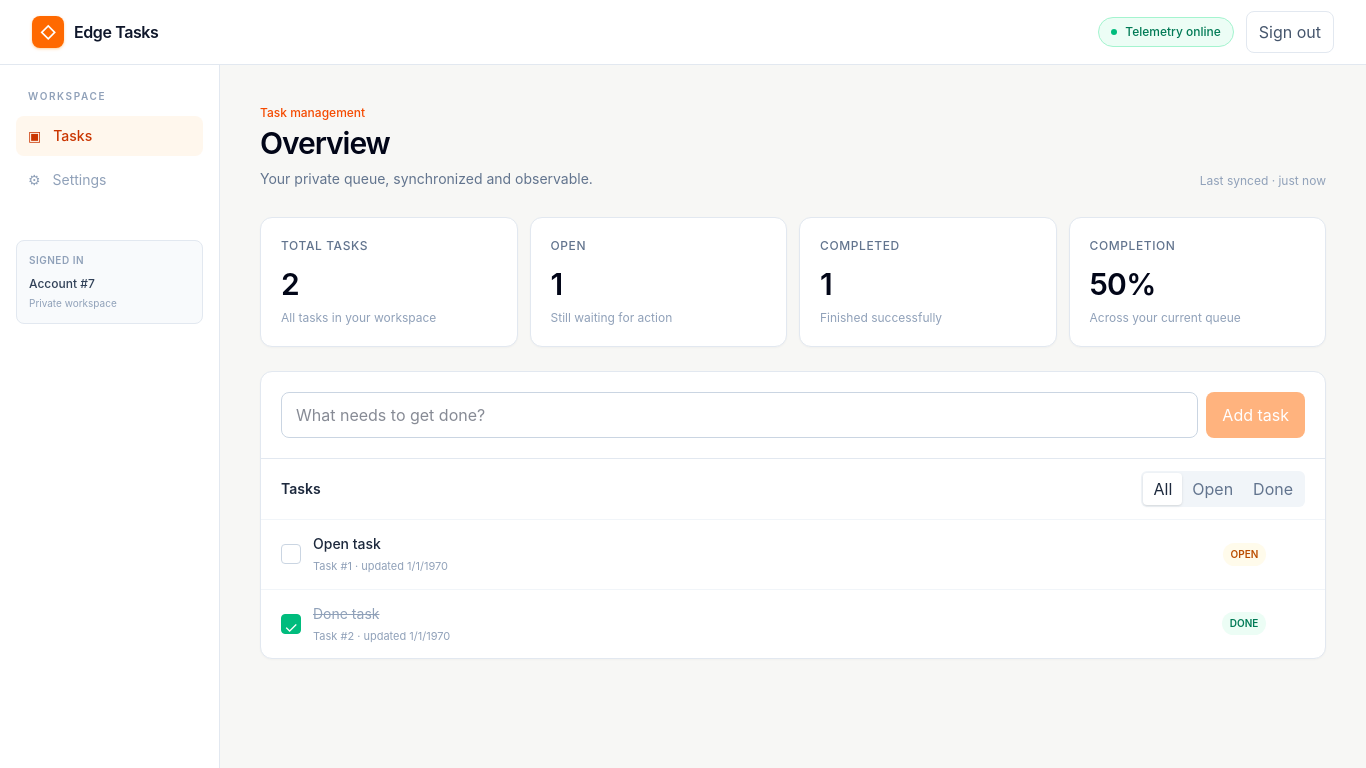
Scenario: App › filters completed tasks
The image size is (1366, 768).
Expected: the text "Open task" is shown, [313,535,381,552]
Step 1. Click the button "done" → (1273, 489), box [1243,473,1303,505]
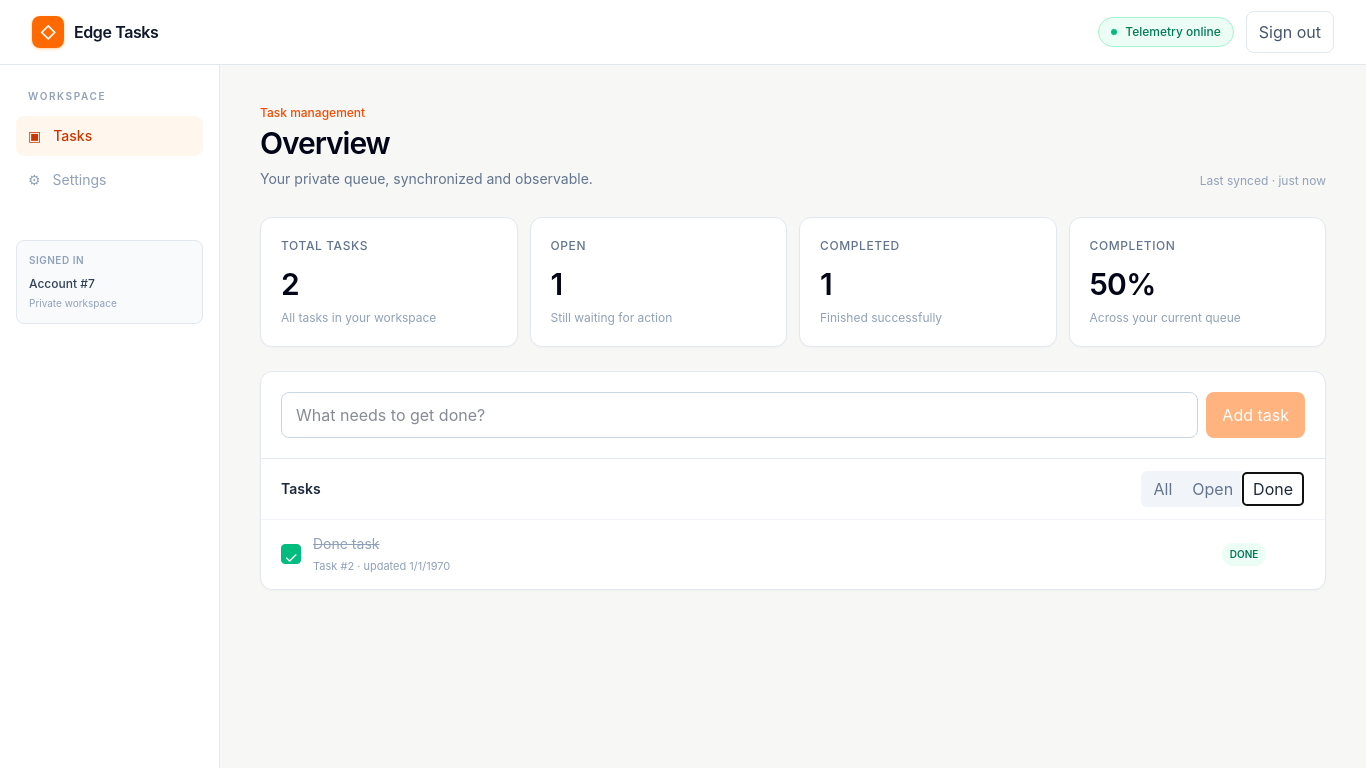
Expected: the text "Done task" is shown, [313,535,380,552]
Now the text "Open task" is gone
